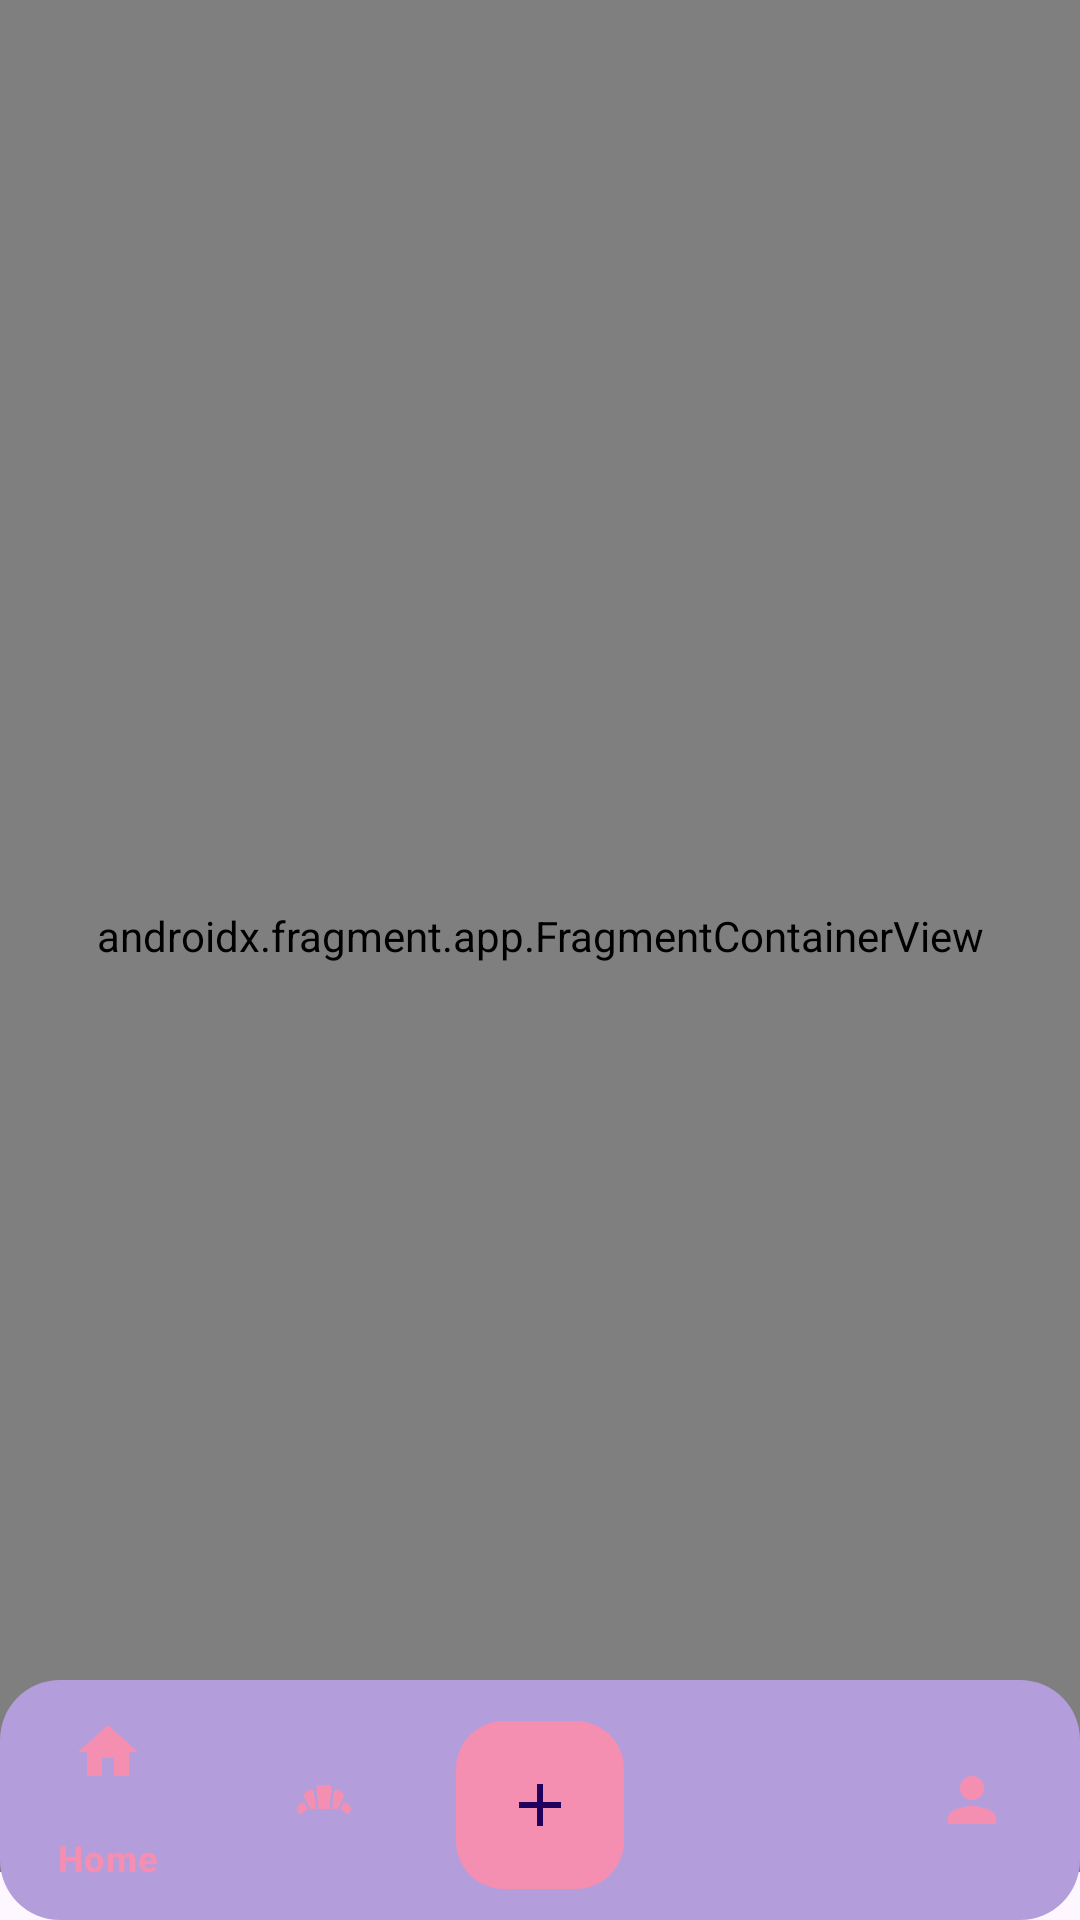

Icon click points for this 1080 × 1920 phone screenshot, format point (x, y):
add: point (540, 1805)
